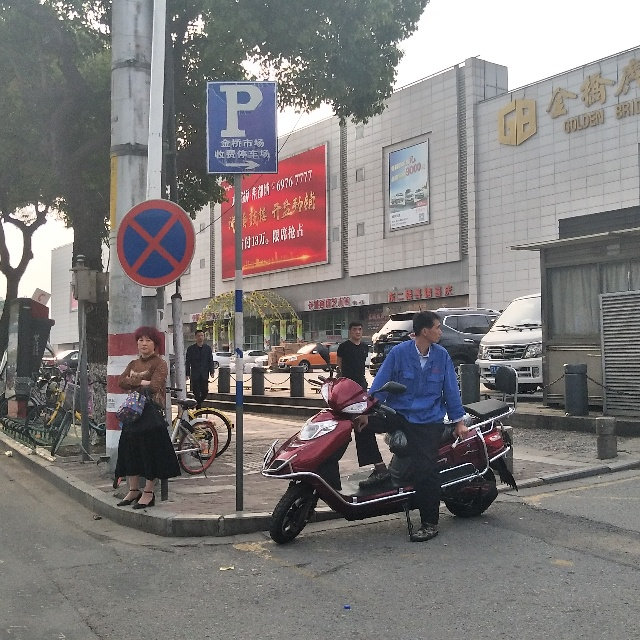stop: (122, 207, 189, 282)
